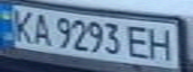2: (66, 16, 87, 52)
3: (103, 20, 127, 56)
9: (51, 15, 75, 49), (84, 19, 106, 55)
A: (27, 11, 54, 46)
E: (124, 22, 154, 61)
H: (145, 25, 178, 63)
K: (6, 7, 39, 44)
